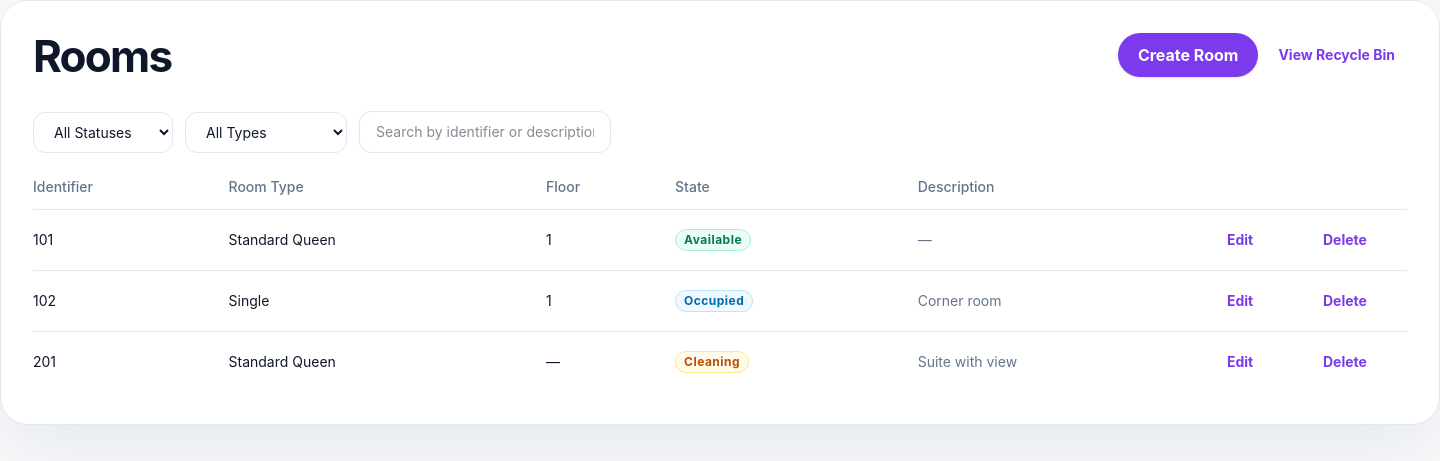
Test case: RoomsPage › status filter › shows all rooms when All Statuses is selected
Select "Occupied" in the dropdown named "Status filter" at point(103, 132), box [33,112,173,153]
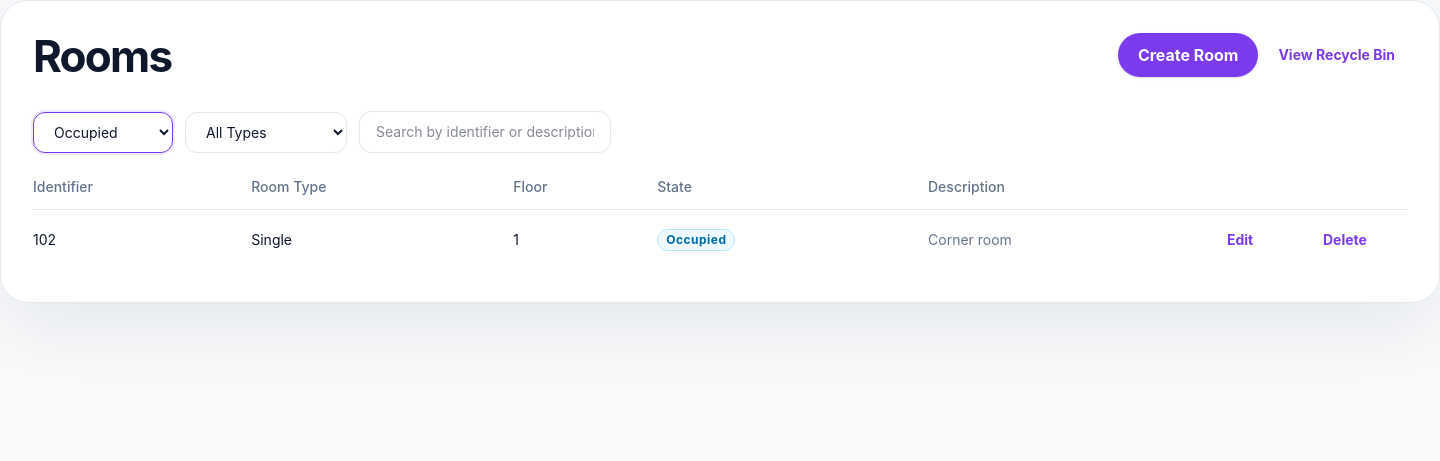
Expected: the text "101" is gone
Select "All Statuses" in the dropdown named "Status filter" at point(103, 132), box [33,112,173,153]
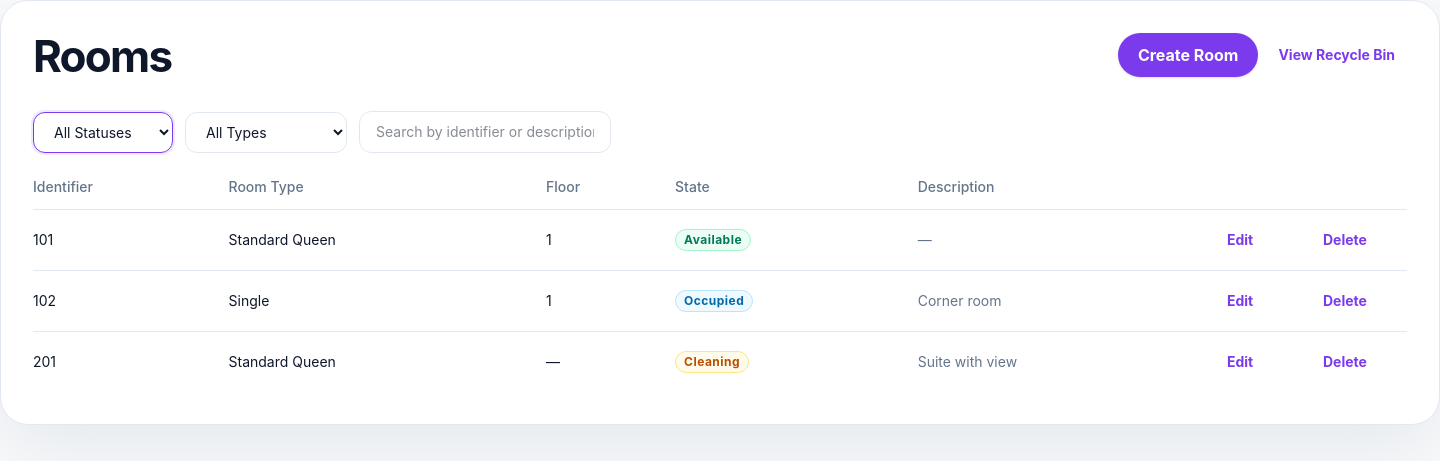
Expected: the text "102" is shown, [33,271,228,332]
Expected: the text "101" is shown, [33,210,228,271]
Expected: the text "201" is shown, [33,332,228,392]
